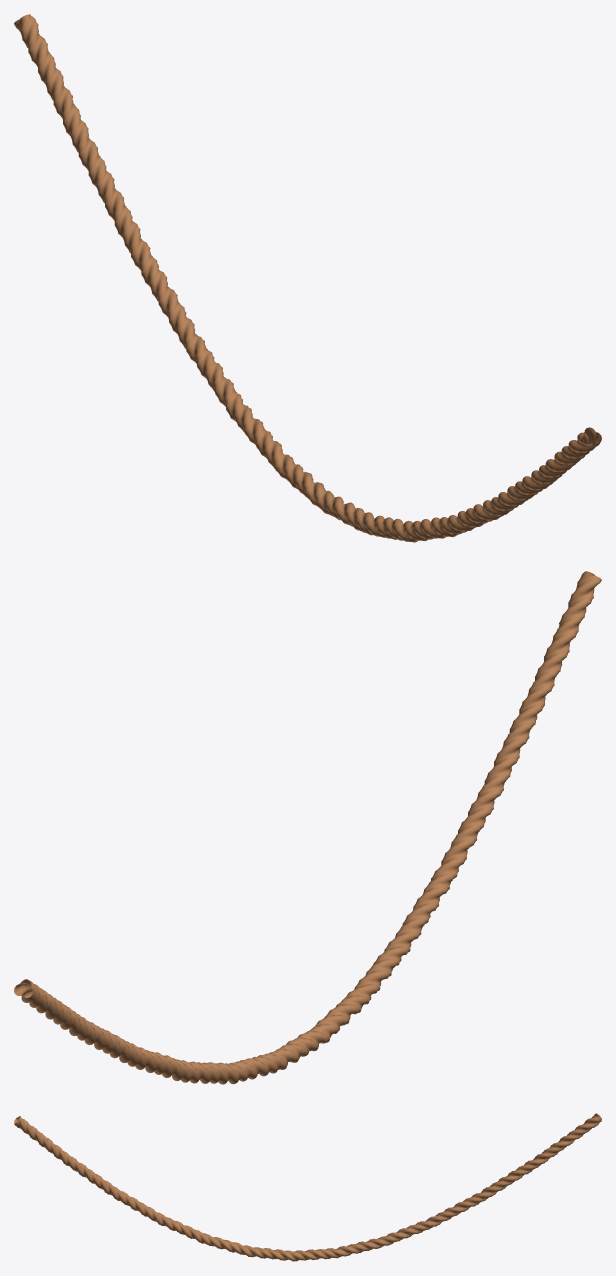
File: Corda 2.fbx
The picture shows the model from 3 angles, top to bottom: view 1: azimuth 30°, elevation 25°; view 2: azimuth 150°, elevation 25°; view 3: azimuth 270°, elevation 25°; orthographic projection. The views are drawn at different scales.
Parts seen in each view (by area): view 1: Rope 1.001; view 2: Rope 1.001; view 3: Rope 1.001.
Boxes of the visible parts, left/top/right/bottom form: Rope 1.001: left=14, top=14, right=601, bottom=542; Rope 1.001: left=14, top=571, right=601, bottom=1084; Rope 1.001: left=14, top=1113, right=601, bottom=1261.
Size of the model in its own units: 16.17 by 178 by 652.
